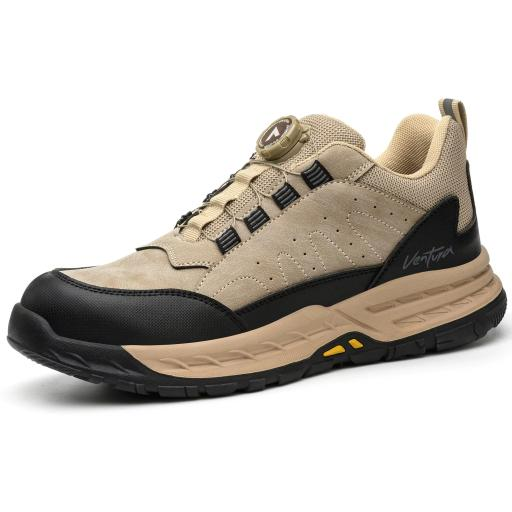safety_boots: (3, 62, 510, 397)
